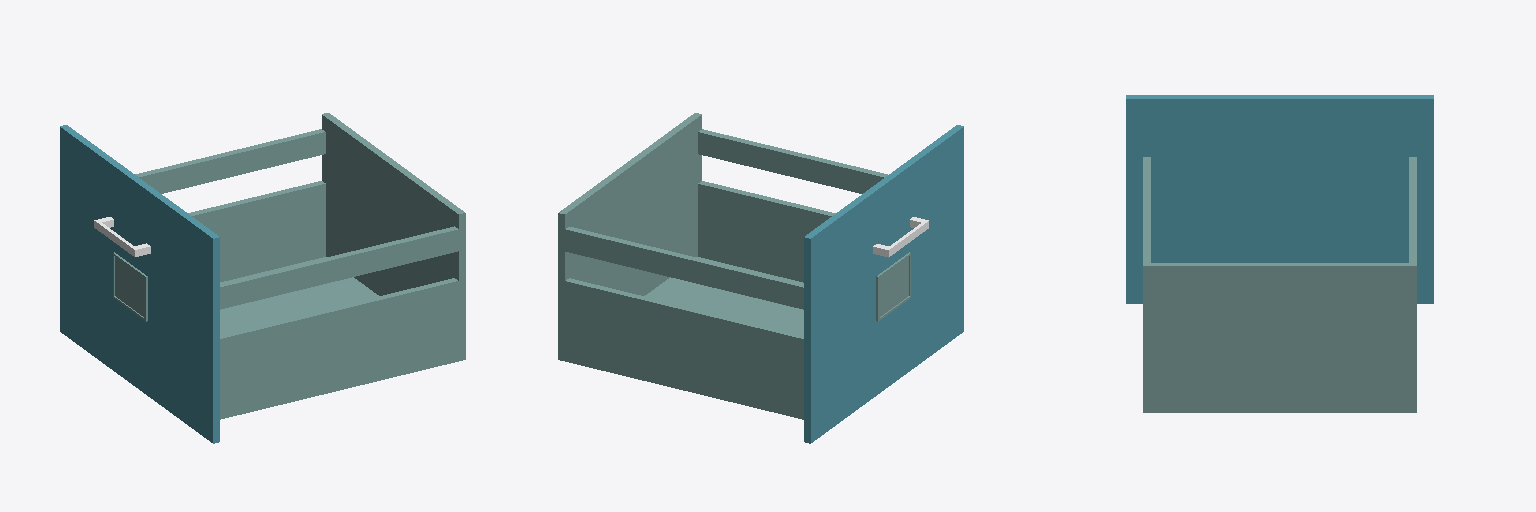
The picture shows the model from 3 angles: view 1: azimuth 30°, elevation 25°; view 2: azimuth 150°, elevation 25°; view 3: azimuth 270°, elevation 25°; orthographic projection.
Parts seen in each view (by area): view 1: 04_5.001_Material.004, 04_5.001_Material.002, 04_5.001_Material.003; view 2: 04_5.001_Material.004, 04_5.001_Material.002, 04_5.001_Material.003; view 3: 04_5.001_Material.002, 04_5.001_Material.004.
Boxes of the visible parts, box(x1,y1,x2,y2) form: 04_5.001_Material.004: box(113, 113, 465, 419); 04_5.001_Material.002: box(60, 125, 219, 443); 04_5.001_Material.003: box(94, 217, 150, 256); 04_5.001_Material.004: box(558, 113, 910, 419); 04_5.001_Material.002: box(804, 125, 963, 443); 04_5.001_Material.003: box(873, 217, 928, 257); 04_5.001_Material.002: box(1126, 95, 1433, 303); 04_5.001_Material.004: box(1143, 157, 1416, 412).
Bounding box in the file's own units: 0.4006 × 0.2779 × 0.3775.
Materials: 3 (3 with a texture image).